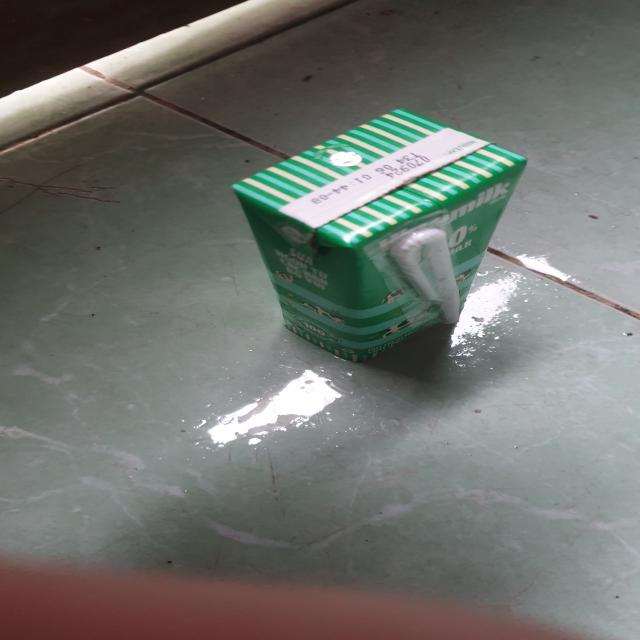Vina: (224, 107, 533, 367)
